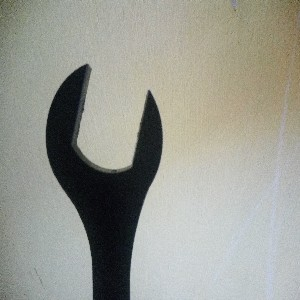spanner: (44, 63, 163, 300)
